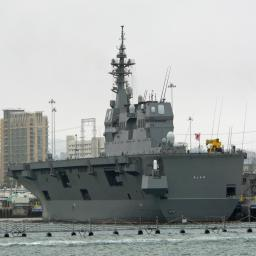Portanaves: (8, 28, 248, 227)
